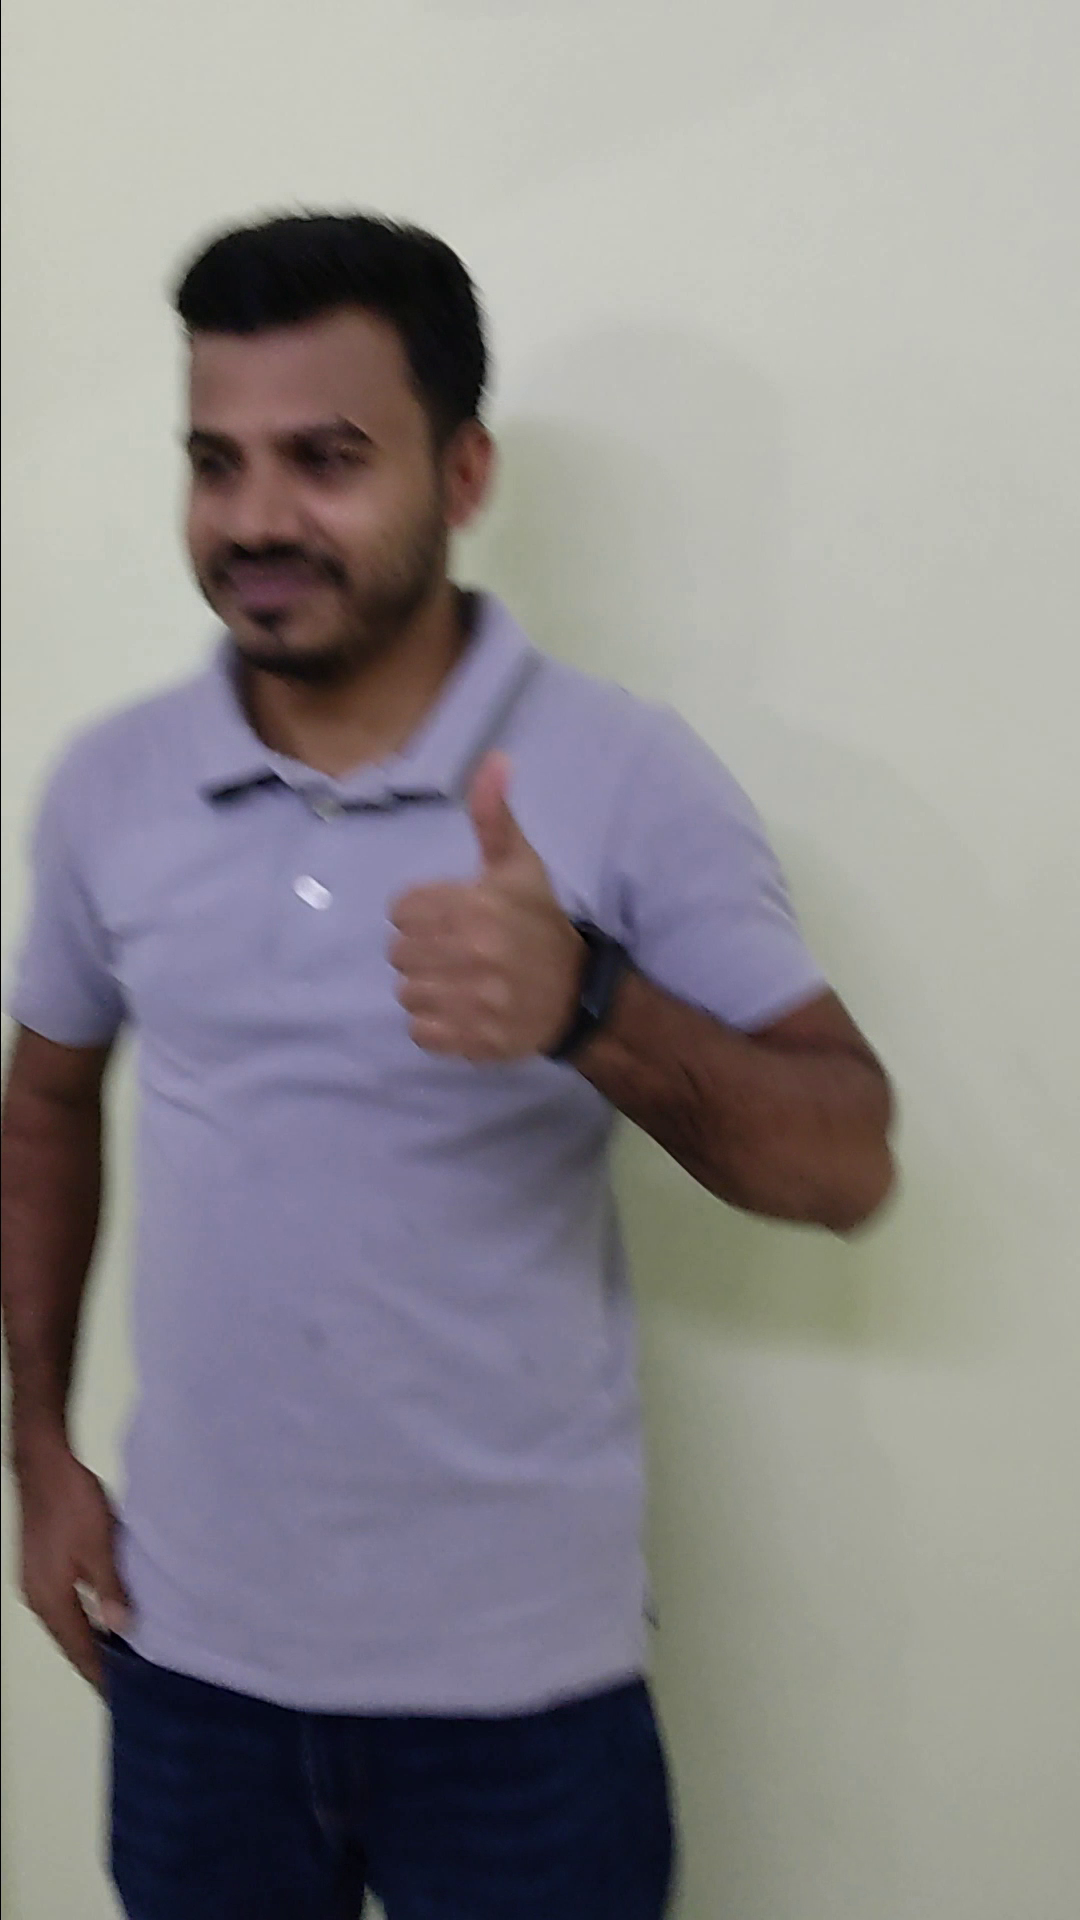Like: (375, 740, 615, 1079)
None: (8, 1422, 137, 1705)
